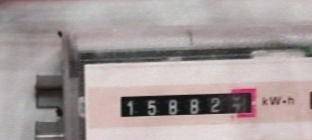1: (125, 99, 134, 116)
2: (209, 96, 219, 113)
5: (146, 99, 156, 115)
7: (231, 102, 240, 113)
8: (188, 97, 198, 115), (167, 99, 177, 115)
screen: (112, 83, 261, 127)
